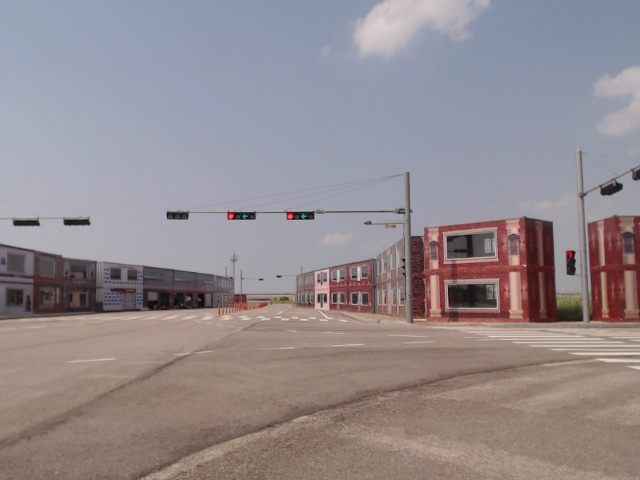left_green_4: (287, 212, 314, 220), (228, 212, 255, 219)
